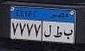7: (34, 24, 41, 38), (11, 22, 18, 35), (19, 23, 26, 35), (27, 23, 33, 36)
Taa: (54, 25, 62, 39)
baa: (63, 28, 73, 39)
laam: (43, 25, 52, 38)
